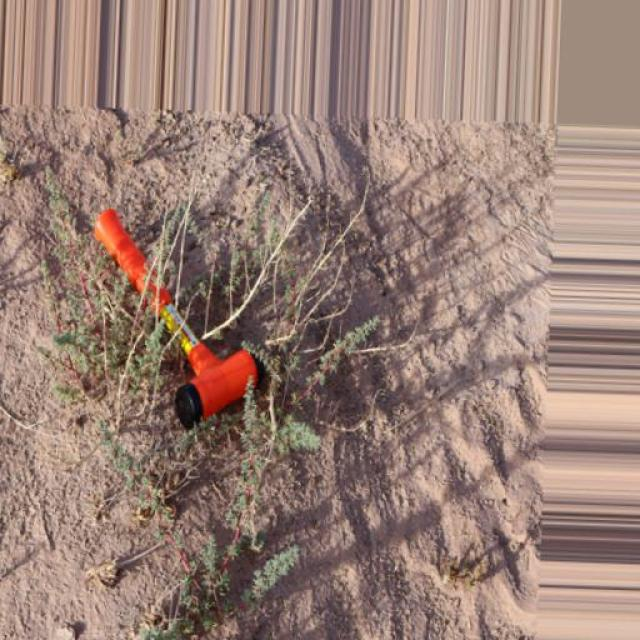mallet: (92, 206, 268, 429)
